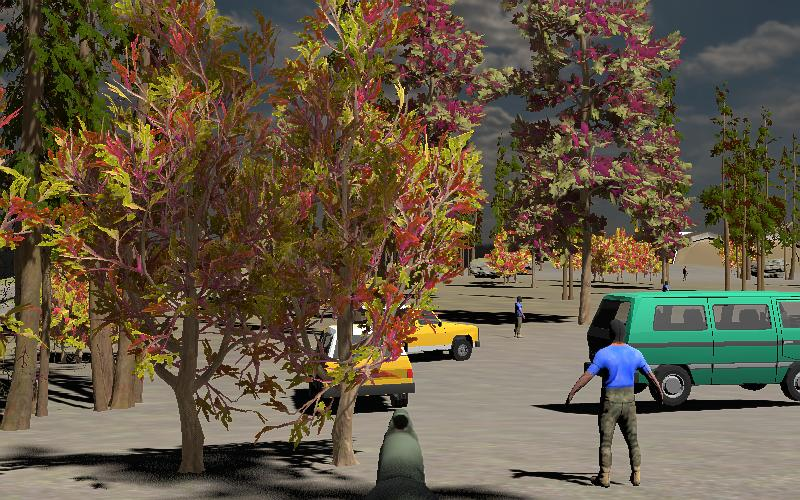Human: (564, 315, 665, 488), (510, 294, 527, 341)
car: (584, 288, 800, 406), (290, 296, 416, 409), (395, 305, 483, 362)
